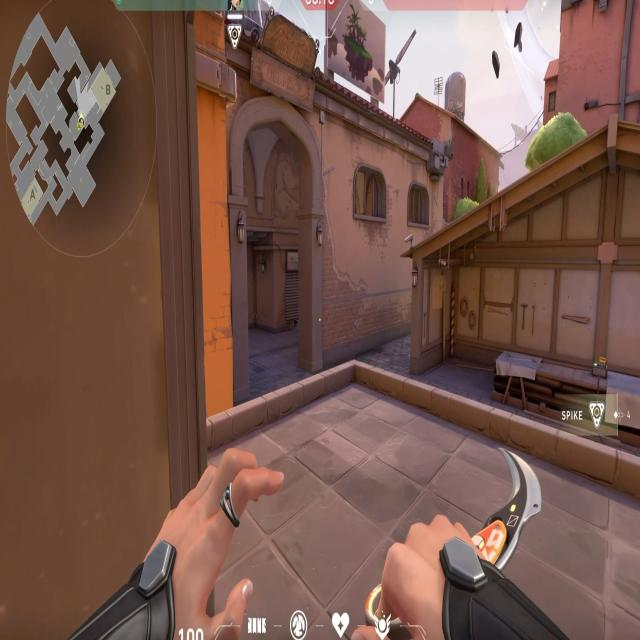B_Garage_Left: (404, 255, 516, 389)
Throwables: (350, 153, 390, 230), (401, 175, 434, 232)
